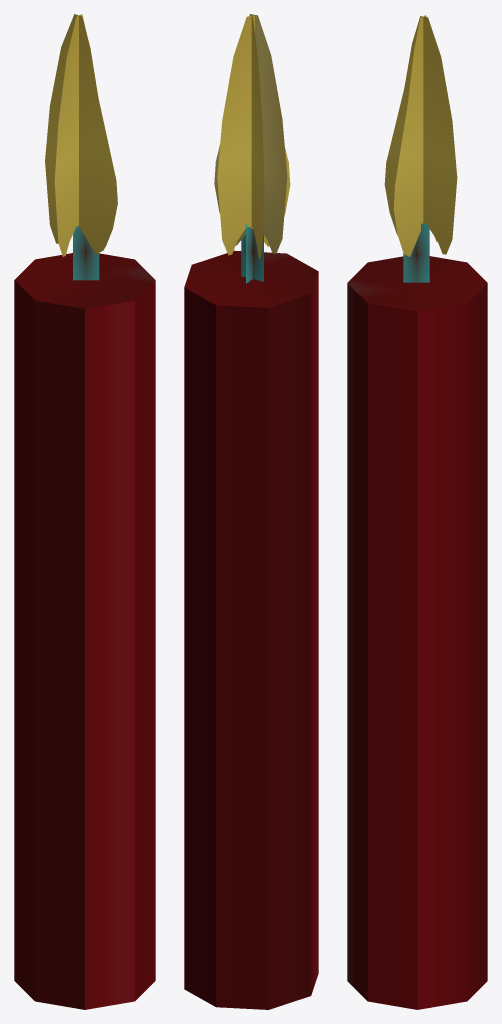
Rendered from candle_338x07.obj.
3 renders of one model, left to right at view 1: azimuth 90°, elevation 25°; view 2: azimuth 150°, elevation 25°; view 3: azimuth 270°, elevation 25°, orthographic.
Visible parts, largest first — view 1: Candle_338x7; view 2: Candle_338x7; view 3: Candle_338x7.
Boxes of the visible parts, x1,y1,x2,y2 form: Candle_338x7: (14, 14, 155, 1009); Candle_338x7: (184, 14, 318, 1009); Candle_338x7: (347, 15, 487, 1009).
Size of the model in its own units: 0.1466 by 1.14 by 0.1504.
